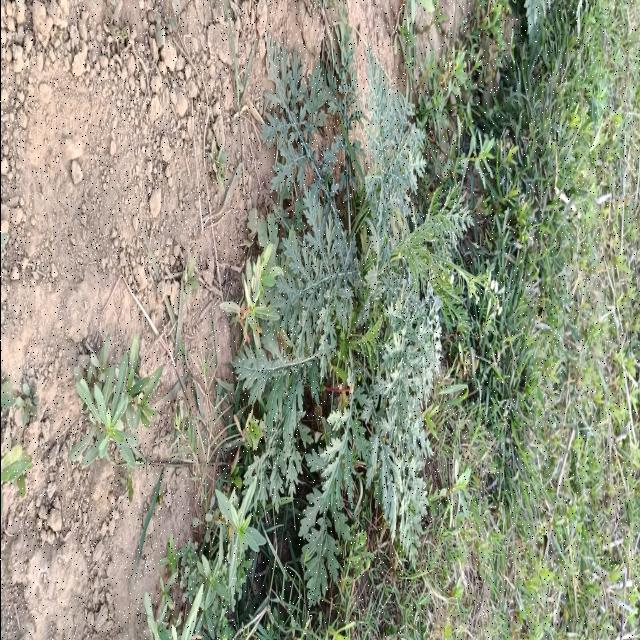plant: (234, 28, 464, 604)
